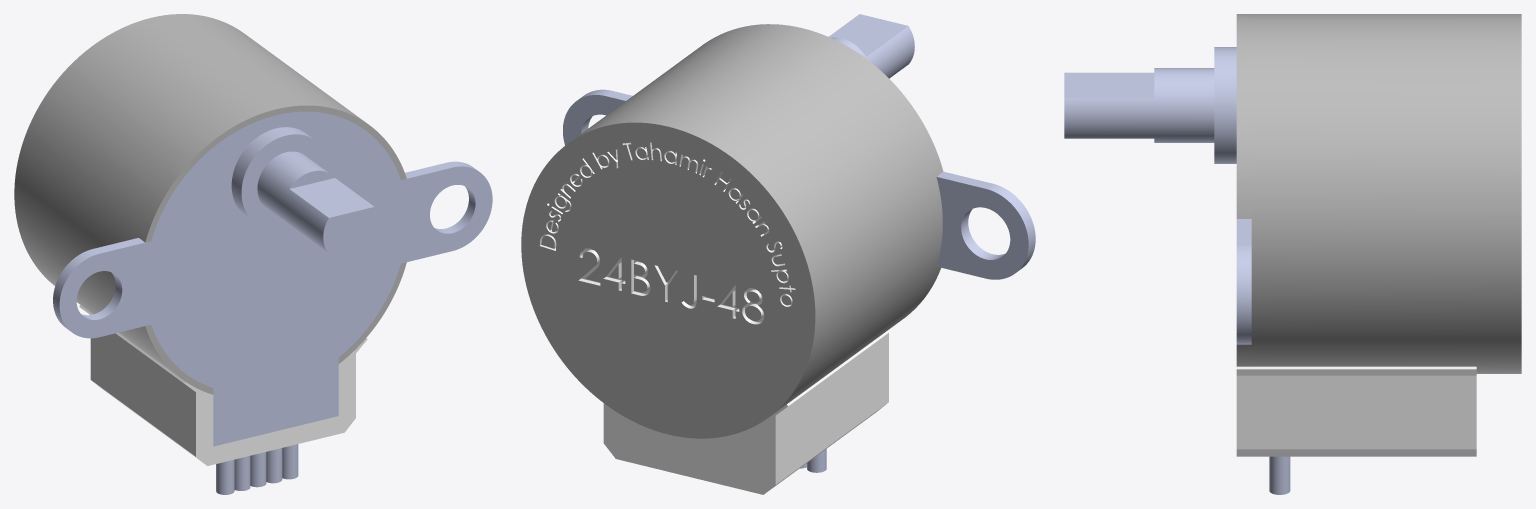
The model's file is stepper-24byj-48.glb.
The picture shows the model from 3 angles, left to right: view 1: azimuth 30°, elevation 25°; view 2: azimuth 150°, elevation 25°; view 3: azimuth 270°, elevation 25°; orthographic projection. The views are drawn at different scales.
Parts seen in each view (by area): view 1: stepper 24BYJ-48 kew; view 2: stepper 24BYJ-48 kew; view 3: stepper 24BYJ-48 kew.
Part boxes in pixels (x1,y1,x2,y2): stepper 24BYJ-48 kew: (14,14,492,494); stepper 24BYJ-48 kew: (521,14,1035,494); stepper 24BYJ-48 kew: (1064,14,1521,494).
Size of the model in its own units: 38 by 32.52 by 30.5.
